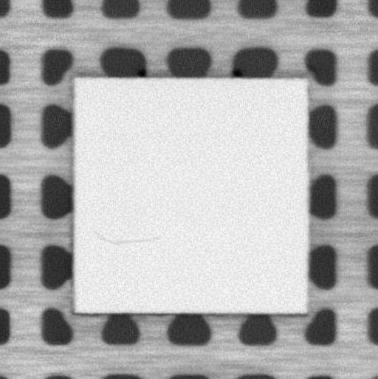DIE_CRACK: (92, 230, 161, 246)
